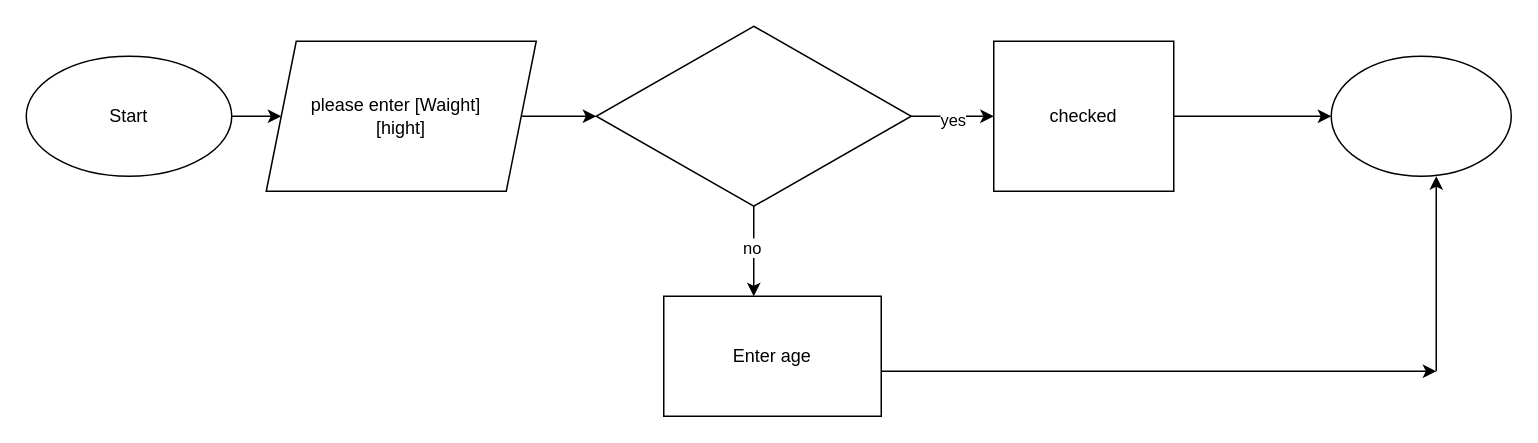
The diagram is 1538 pixels wide and 443 high, and some of its shapes have lost their labels. Here are the shapes that lost their labels. From the top down, the centre of each, then its label:
At [753,115]: "[Waight]=150 [hight]>=5.8".
At [1420,115]: "End".
